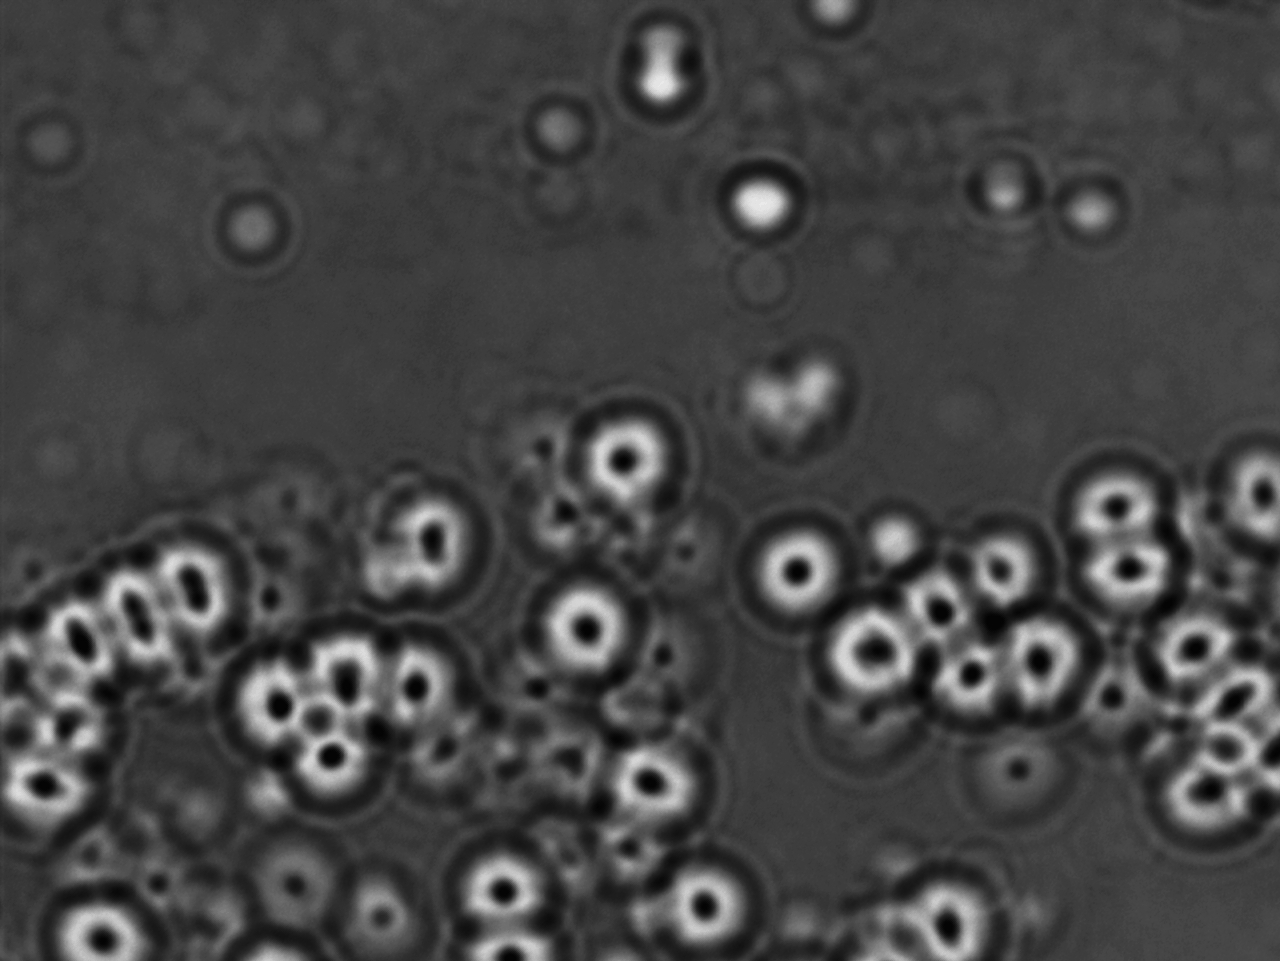depth:24: (726, 500, 862, 636), (519, 569, 666, 683), (573, 391, 699, 516), (209, 640, 327, 760), (433, 826, 559, 938), (815, 600, 936, 712), (657, 849, 778, 959), (601, 722, 715, 837), (1062, 452, 1179, 563), (1070, 527, 1186, 638), (986, 605, 1102, 715), (278, 698, 391, 810), (370, 622, 481, 737), (1136, 596, 1246, 707), (920, 619, 1023, 735), (887, 549, 996, 657), (955, 514, 1063, 621), (299, 620, 402, 729), (1209, 436, 1280, 551)
